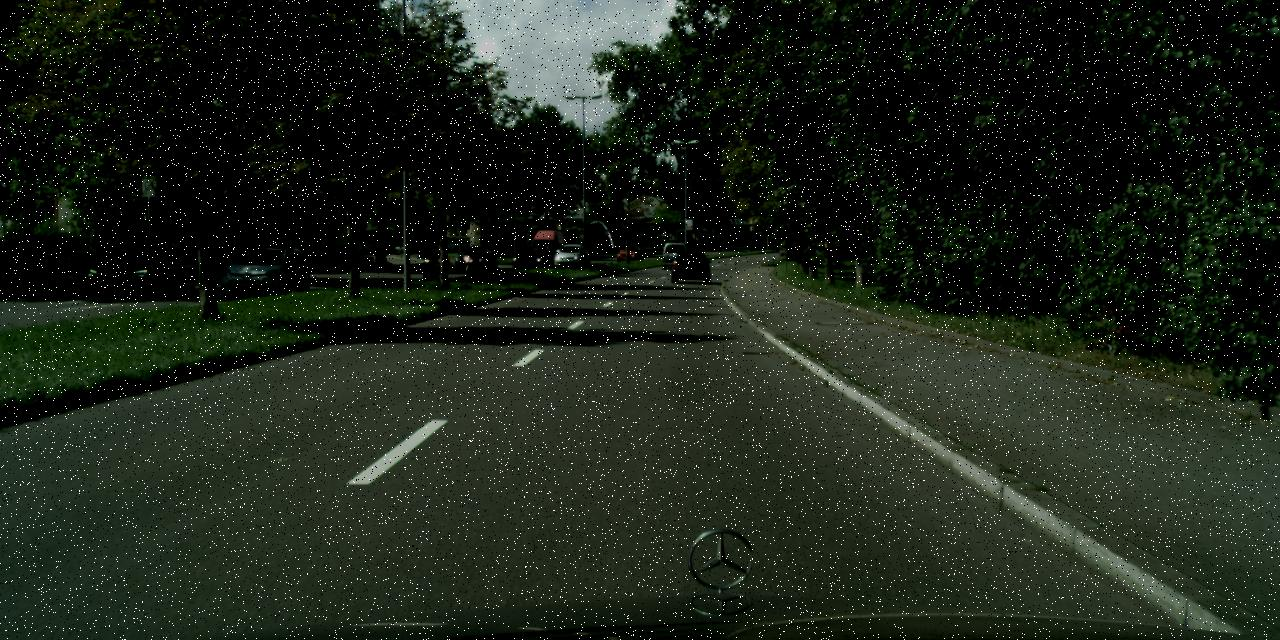ped: (425, 239, 439, 274), (467, 243, 478, 272)
